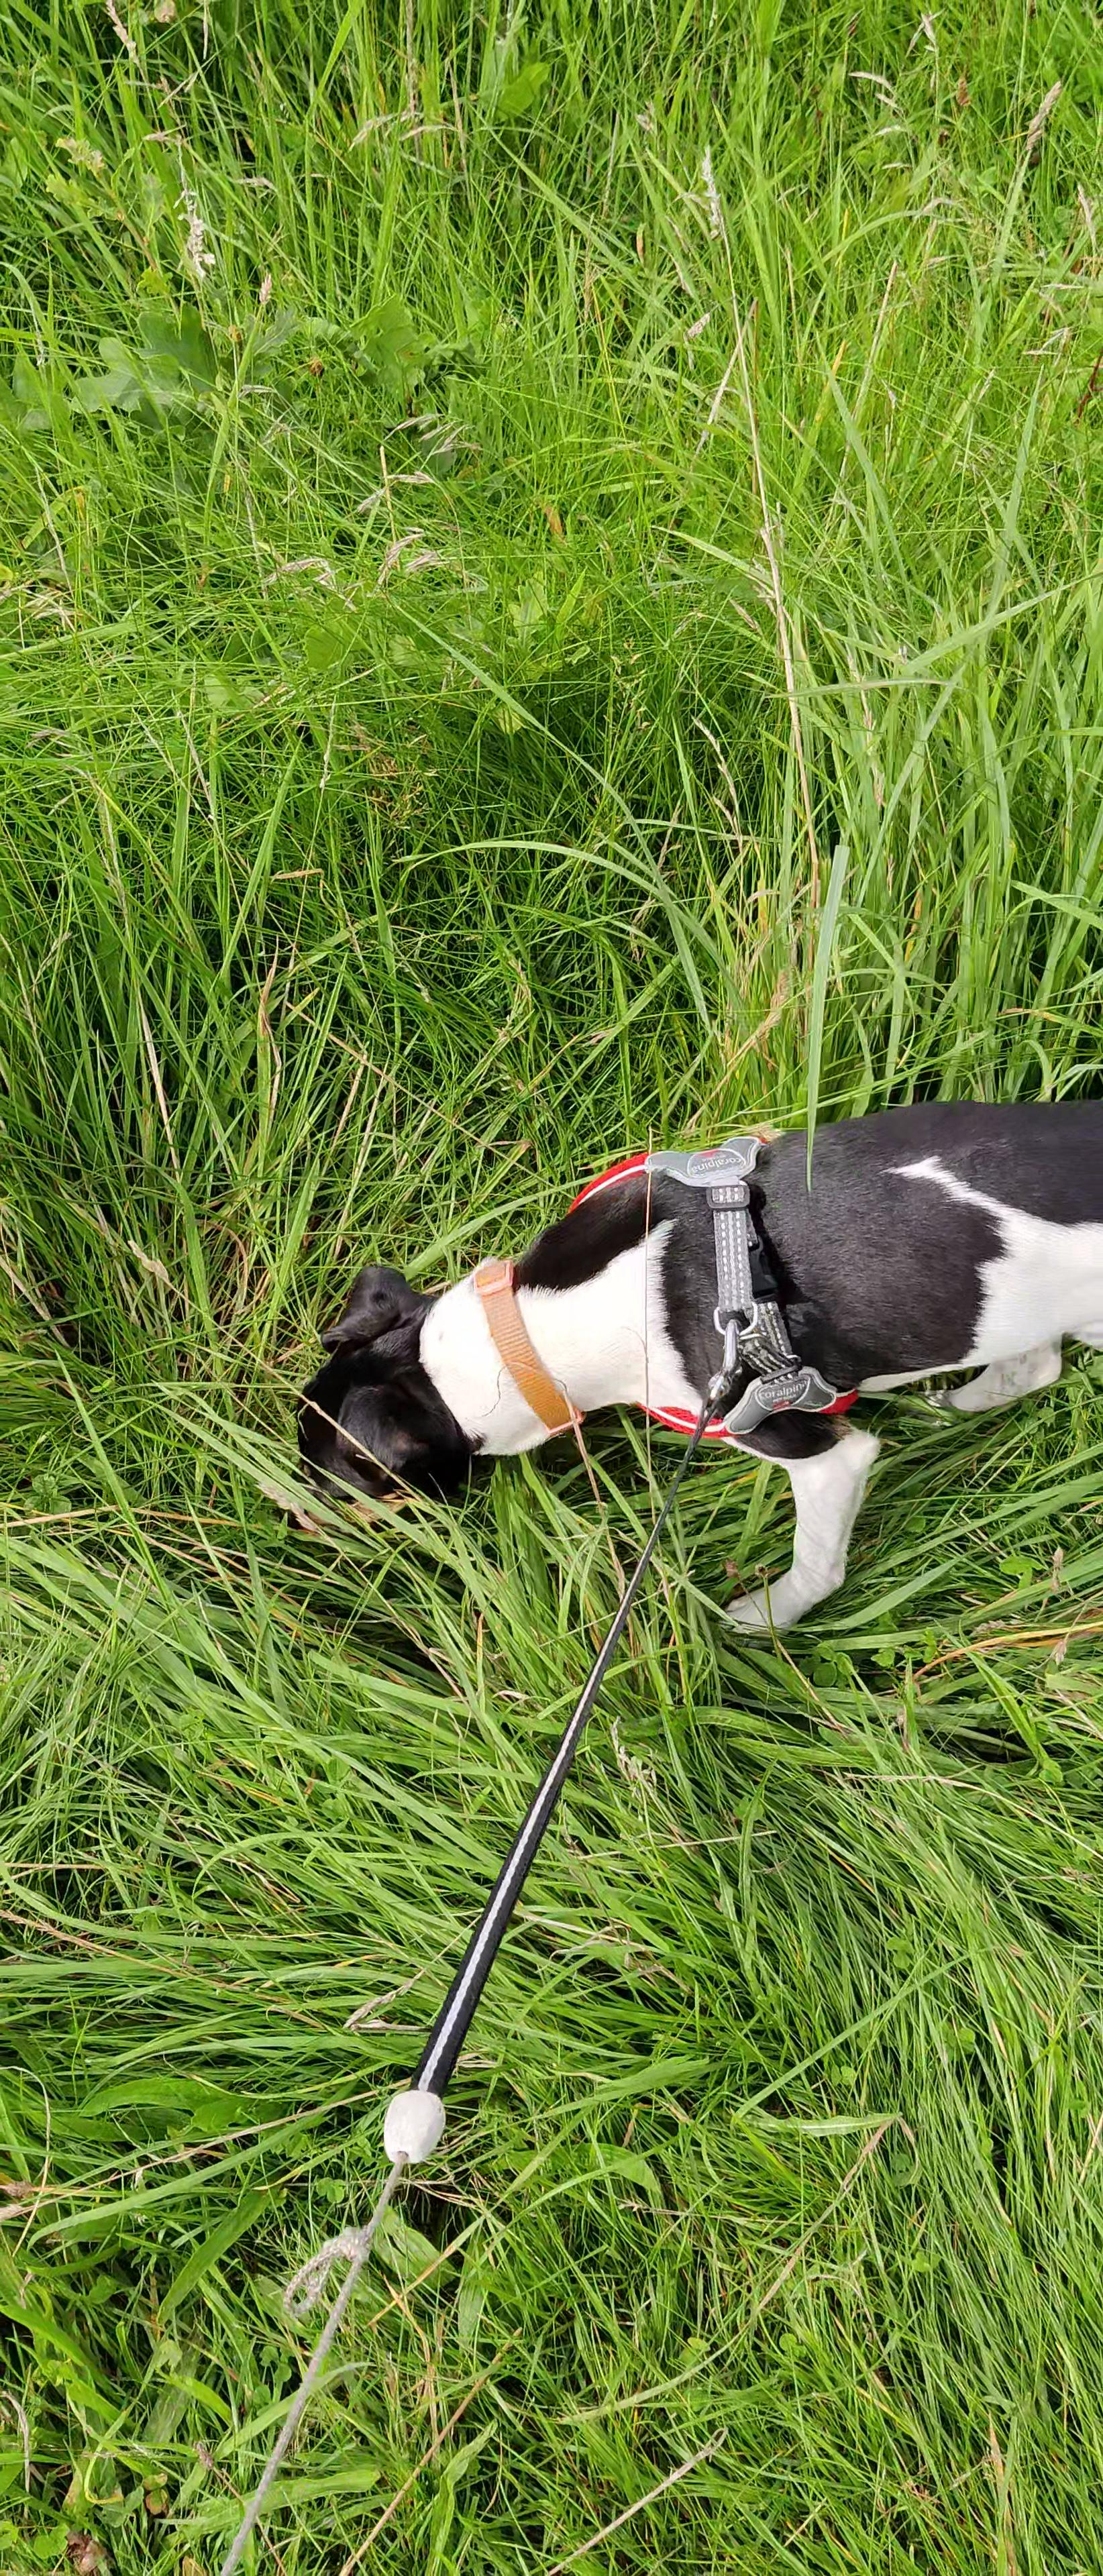Dog: (247, 1060, 1103, 1671)
